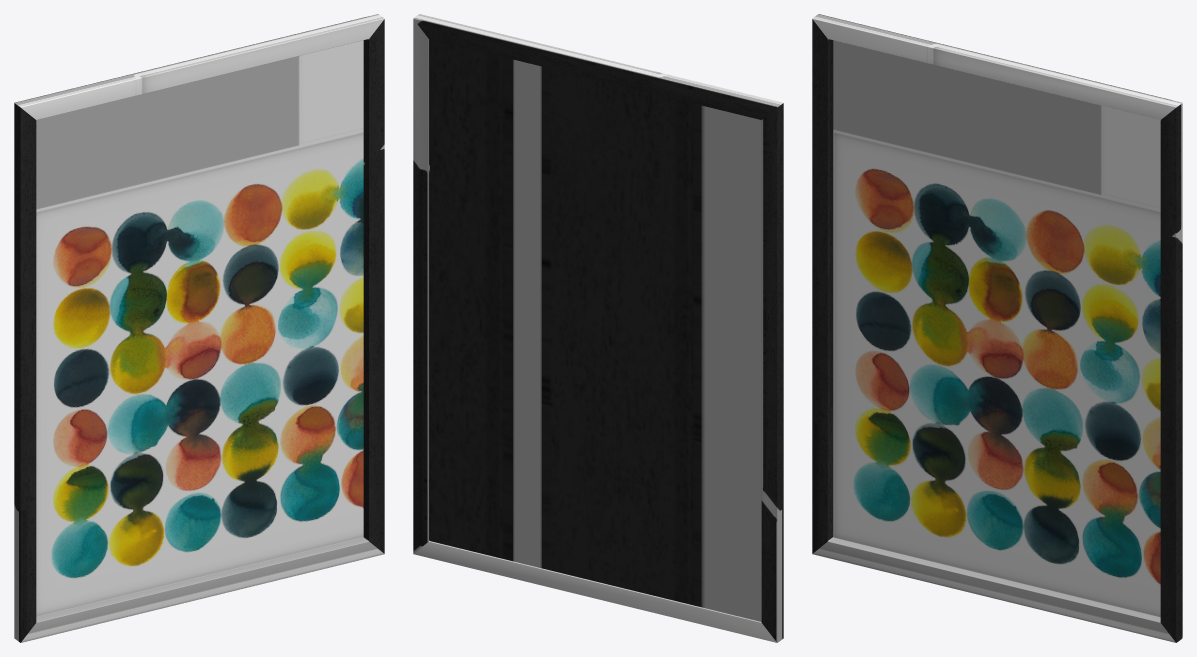
The model's file is Back To The Future by Ale Giorgini, 42 x 59cm.fbx.
The picture shows the model from 3 angles, left to right: view 1: azimuth 30°, elevation 25°; view 2: azimuth 150°, elevation 25°; view 3: azimuth 330°, elevation 25°; orthographic projection.
Visible parts, largest first — view 1: Back_To_The_Future_42x59cm; view 2: Back_To_The_Future_42x59cm; view 3: Back_To_The_Future_42x59cm.
Boxes of the visible parts, left/top/right/bottom form: Back_To_The_Future_42x59cm: left=14, top=14, right=384, bottom=642; Back_To_The_Future_42x59cm: left=413, top=14, right=783, bottom=642; Back_To_The_Future_42x59cm: left=812, top=14, right=1182, bottom=642.
Bounding box in the file's own units: 42 × 59 × 1.3.
